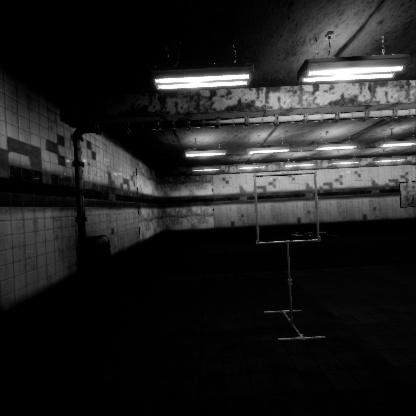gate: (253, 170, 325, 245)
